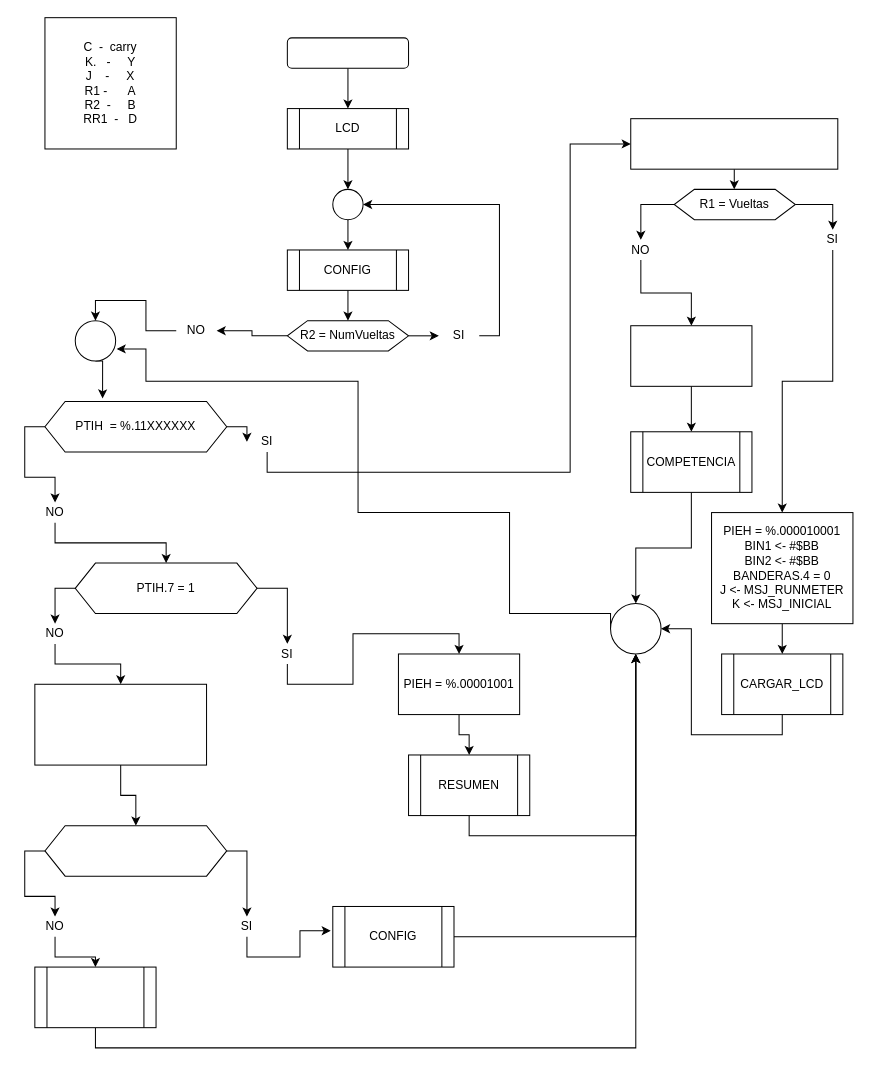
The diagram is 871 pixels wide and 1074 high, and some of its shapes have lost their labels. Each missing label, with the box of its shape:
LIBRE: (34, 966, 156, 1028)
MAIN: (286, 37, 409, 68)
PIEH = %.XXX1XX1 TSCR2.7 = 1: (630, 325, 752, 386)
PTIH.6 = 1: (44, 825, 227, 876)
R1 <- (NumVueltas): (630, 118, 838, 169)
Veloc = 0 Vueltas = 0 VelProm = 0 PIEH <- %.00001001 TSCR2 <- %.10000000: (34, 683, 207, 765)
